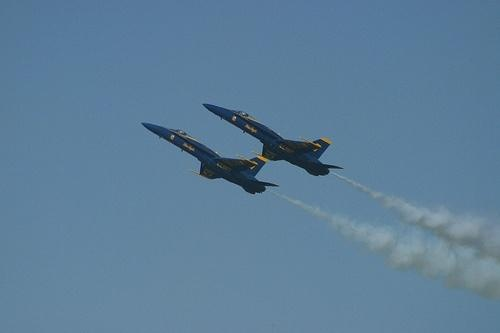aeroplane: (203, 103, 345, 177), (142, 121, 281, 195)
